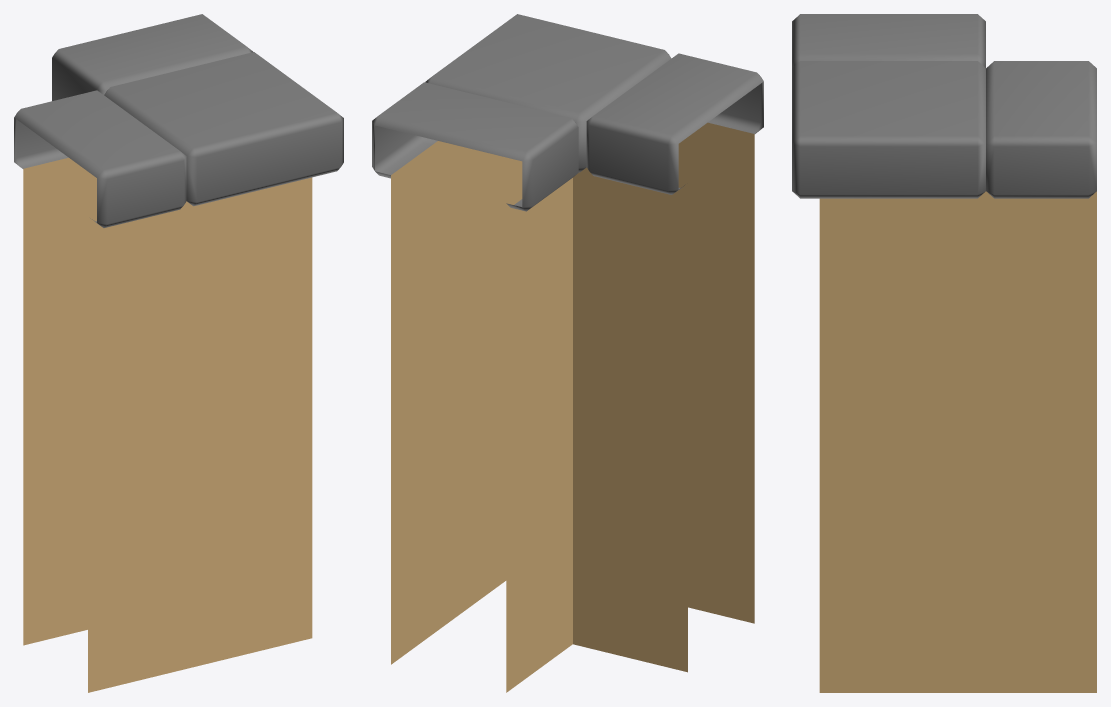
File: SM_WallCorner_4_LOD0.fbx
The picture shows the model from 3 angles, left to right: view 1: azimuth 30°, elevation 25°; view 2: azimuth 150°, elevation 25°; view 3: azimuth 270°, elevation 25°; orthographic projection. The views are drawn at different scales.
Visible parts, largest first — view 1: SM_WallCorner_4_LOD0; view 2: SM_WallCorner_4_LOD0; view 3: SM_WallCorner_4_LOD0.
Boxes of the visible parts, x1,y1,x2,y2 form: SM_WallCorner_4_LOD0: (14, 14, 343, 692); SM_WallCorner_4_LOD0: (372, 14, 763, 692); SM_WallCorner_4_LOD0: (792, 14, 1096, 692).
Size of the model in its own units: 2.2 by 4.5 by 2.2.
